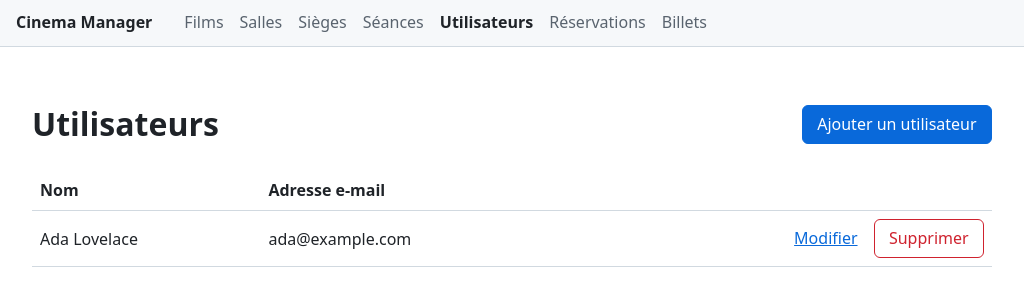
UsersPage › deletes a user after confirmation
Click the button "Supprimer" at (929, 238), box [874,219,984,258]
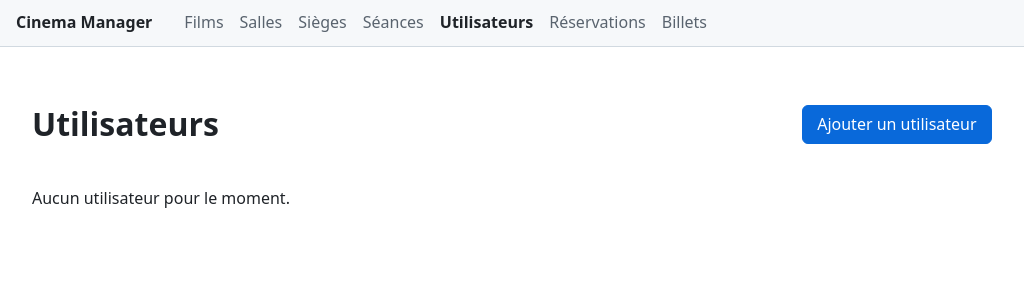
Expected: the text "Aucun utilisateur pour le moment." is shown, [32,187,290,209]
